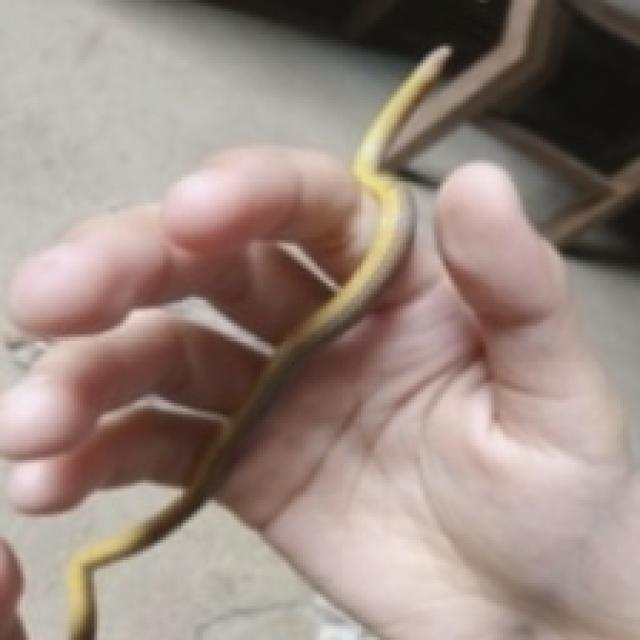gervais worm snake: (69, 46, 449, 637)
